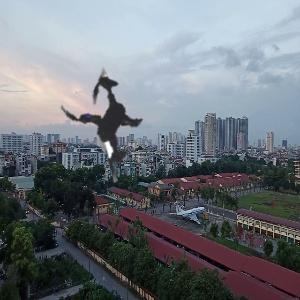drone: (17, 39, 195, 217)
